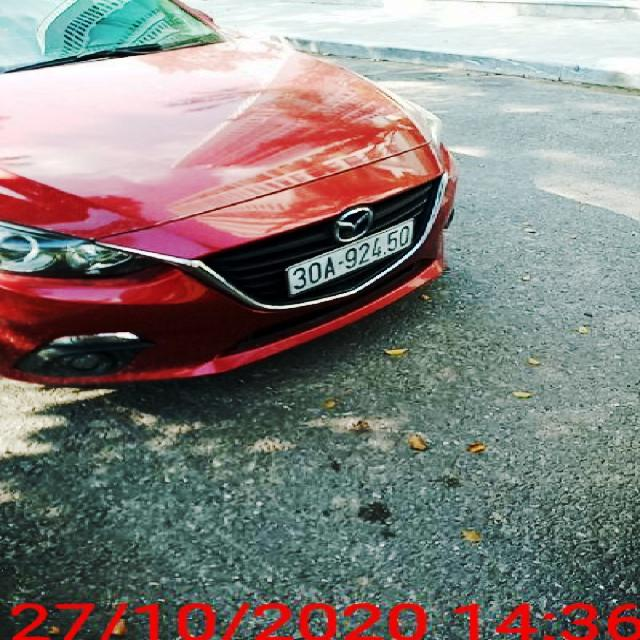license_plate: (289, 221, 413, 297)
